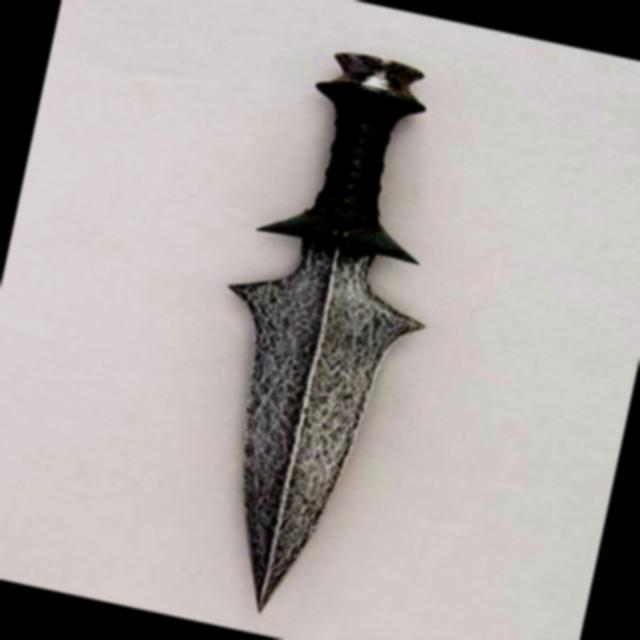short sword: (131, 12, 506, 640)
